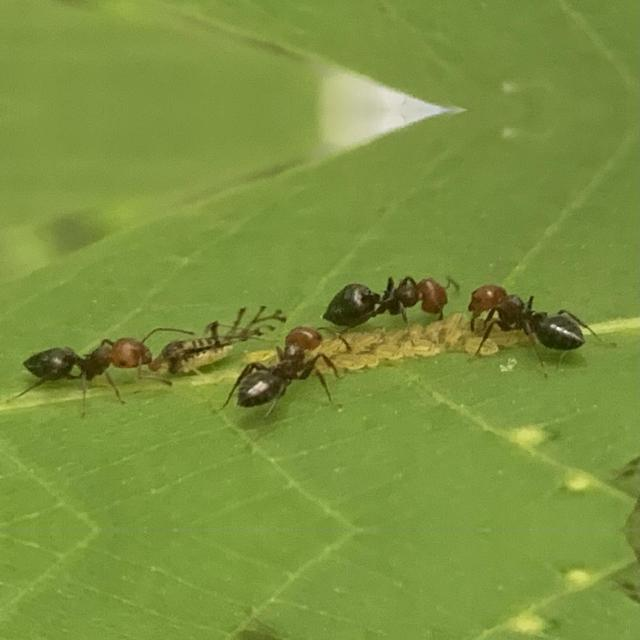Crematogaster: (18, 316, 158, 404), (310, 252, 450, 336), (464, 274, 582, 360), (238, 318, 332, 410)
